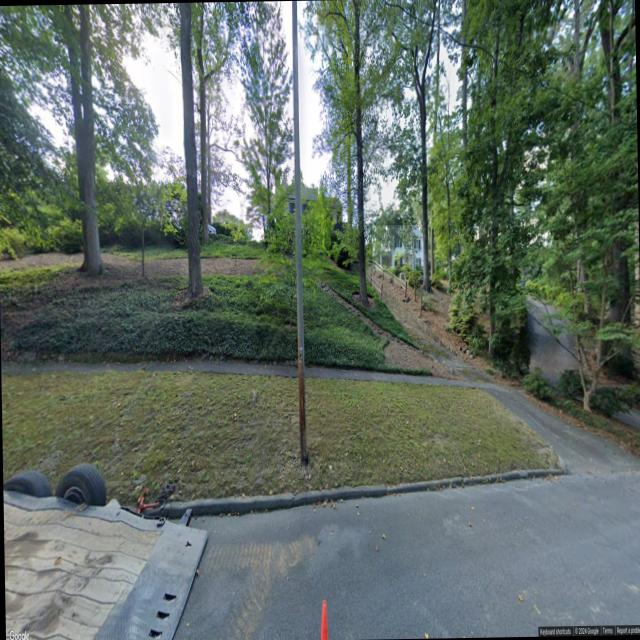House: (275, 186, 358, 254), (371, 224, 423, 270)
